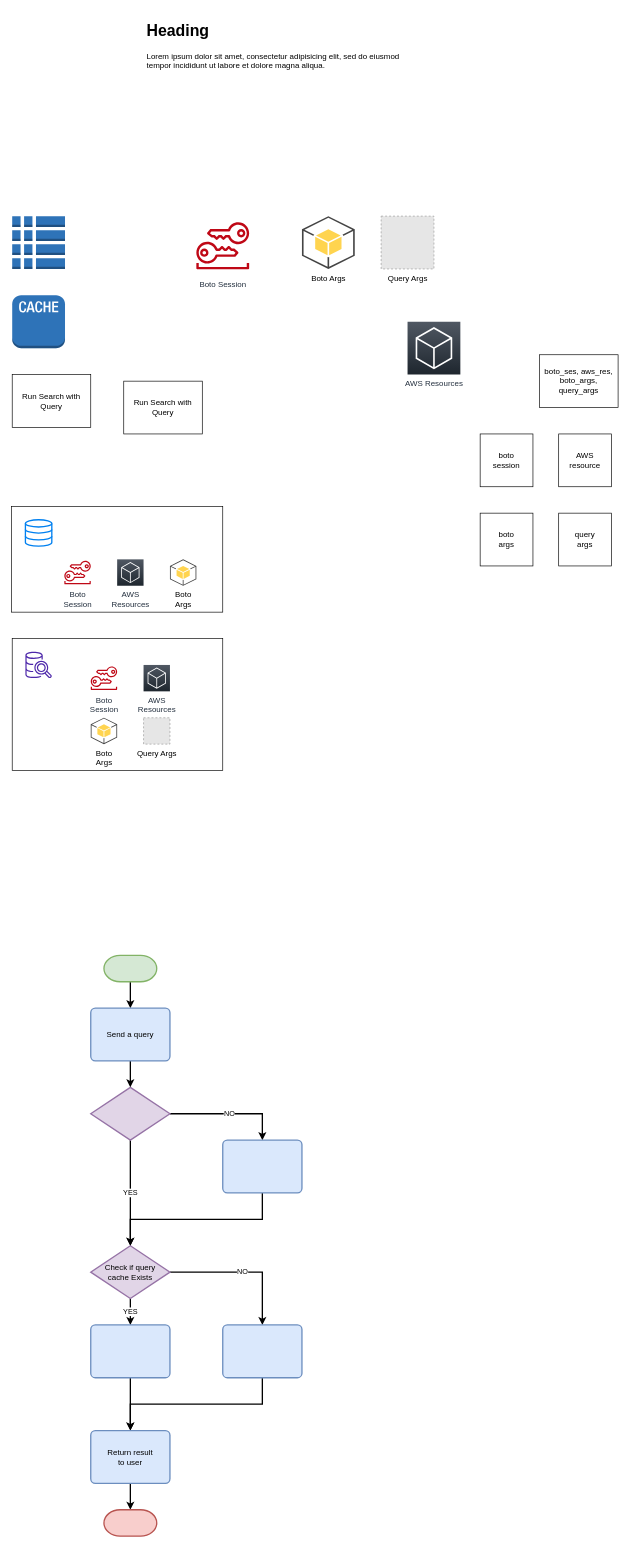
Image size: 630x1548. Some labels were removed from this diagram. Grey dashed boxes stand in for pictures. The box of each missing label's shape, as (x1, y1, x2, y2) in pixels:
Check if data cache exists: (90, 1086, 170, 1140)
Data Cache Key: (24, 519, 52, 546)
END: (103, 1509, 157, 1536)
Get result from Cache: (90, 1324, 170, 1378)
Query Cache Key: (25, 651, 51, 678)
Query the index set query cache: (222, 1324, 302, 1378)
Run boto API index the data set data cache: (222, 1139, 302, 1193)
START: (103, 954, 157, 982)
